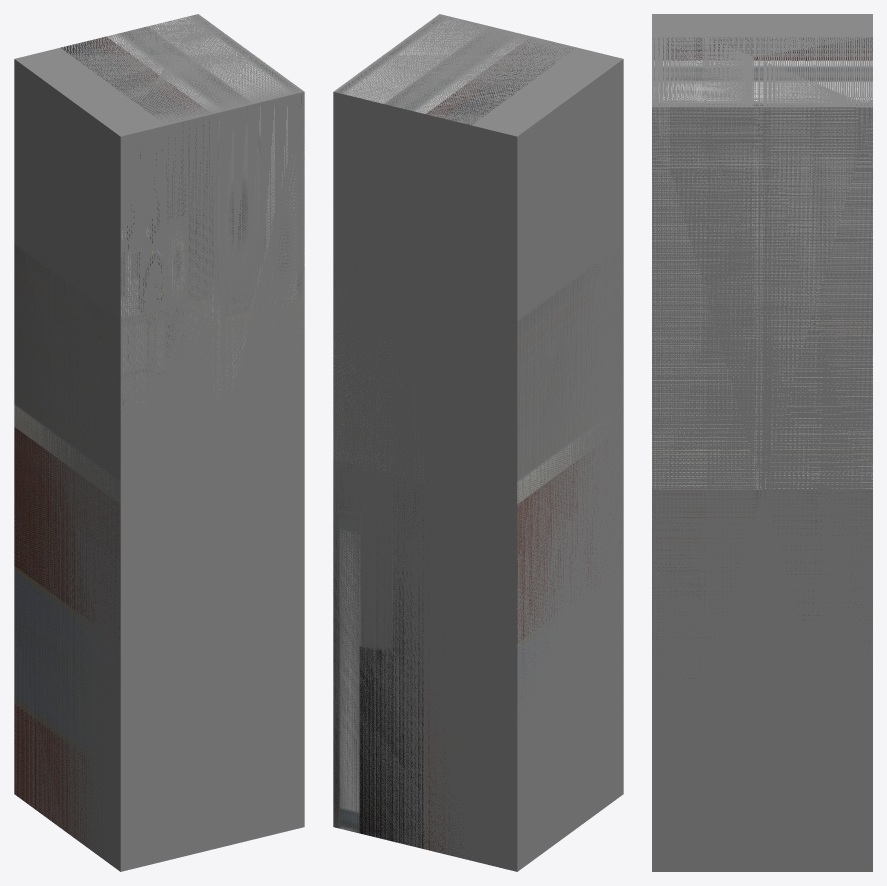
The model's file is floor_lamp.FBX.
3 views of the same model, side by side, from view 1: azimuth 30°, elevation 25°; view 2: azimuth 150°, elevation 25°; view 3: azimuth 270°, elevation 25° (orthographic). The views are drawn at different scales.
Parts seen in each view (by area): view 1: bounds, colbox-1; view 2: bounds, colbox-1; view 3: bounds, colbox-1.
Part boxes in pixels (x1=…): bounds: x1=14, y1=14, x2=304, y2=871; colbox-1: x1=14, y1=15, x2=304, y2=855; bounds: x1=333, y1=14, x2=623, y2=871; colbox-1: x1=333, y1=17, x2=623, y2=855; bounds: x1=652, y1=14, x2=872, y2=871; colbox-1: x1=652, y1=37, x2=872, y2=685.
Size of the model in its own units: 51.2 by 196 by 51.2.
